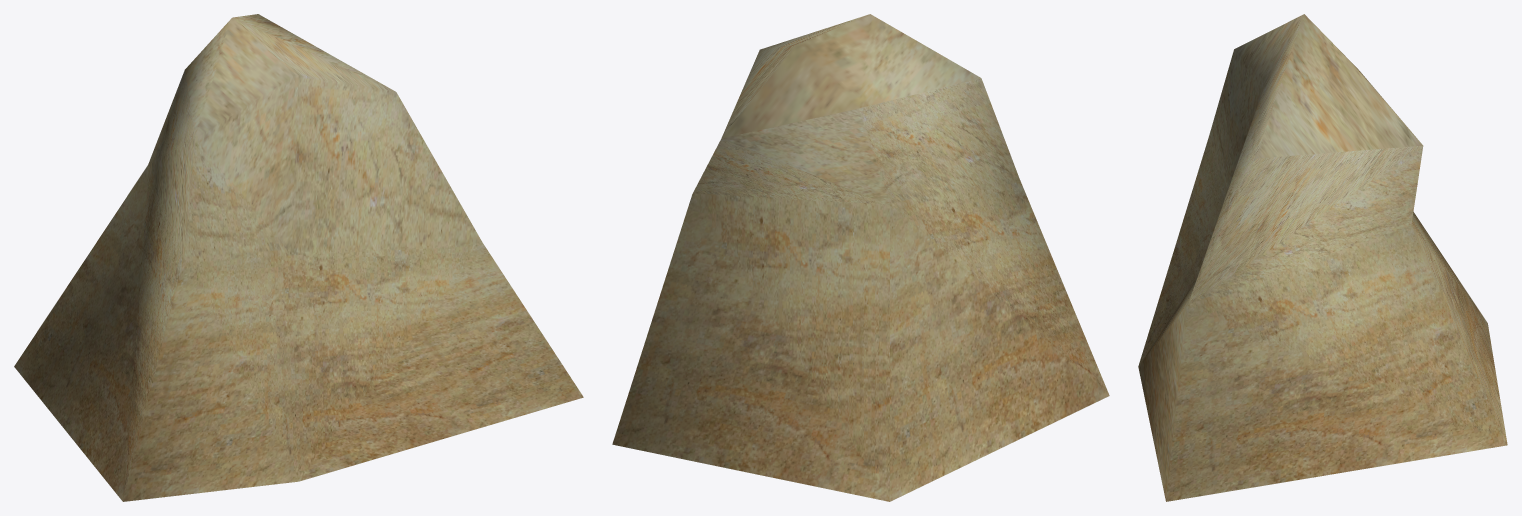
The model's file is rock_beach_spike_l3.fbx.
3 renders of one model, left to right at view 1: azimuth 30°, elevation 25°; view 2: azimuth 150°, elevation 25°; view 3: azimuth 270°, elevation 25°, orthographic. The views are drawn at different scales.
Parts seen in each view (by area): view 1: mesh_node; view 2: mesh_node; view 3: mesh_node.
Part boxes in pixels (x1,y1,x2,y2): mesh_node: (14, 14, 583, 501); mesh_node: (612, 14, 1109, 501); mesh_node: (1138, 14, 1507, 501).
Size of the model in its own units: 5.63 by 4.67 by 4.3.
1 material, 1 textured.
